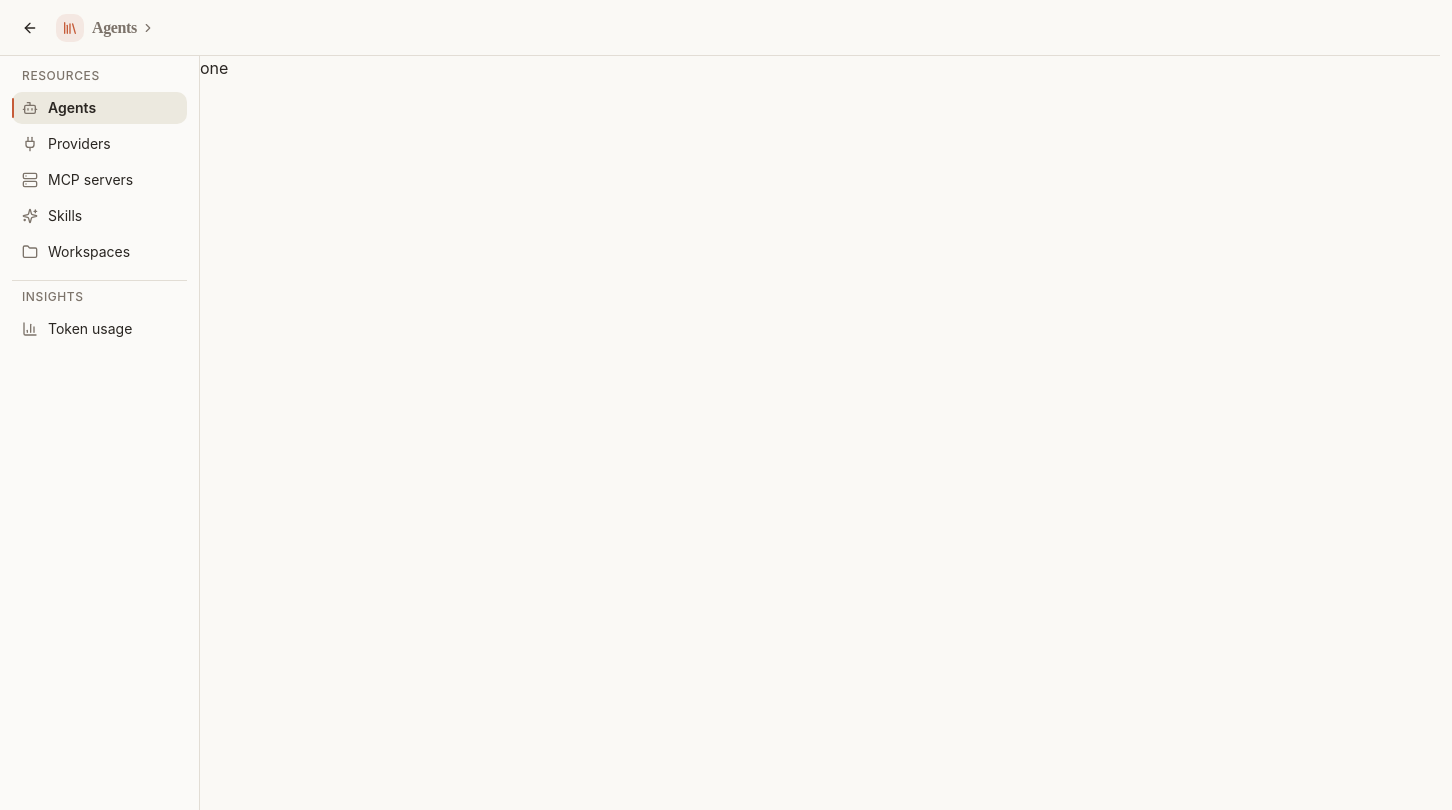
Test: EntityLayout › links the area name back to the index when a detail page is open
What coordinates should you click on to do the following:
click the 1st link "Agents"
I would click on:
 (114, 28)
Its box is [92,16,137,40].
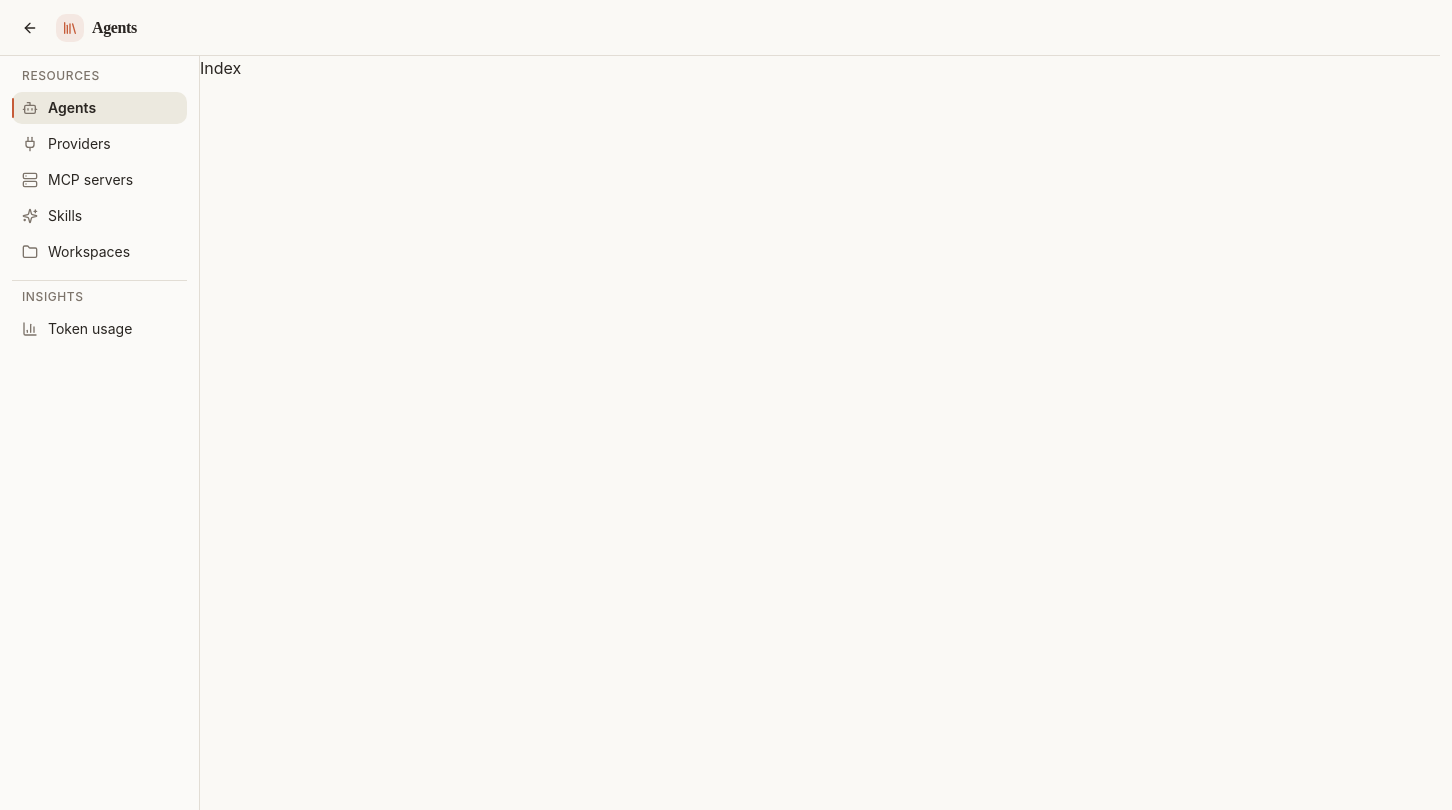
Check: the text "Index" is shown, box [200,58,241,78]
